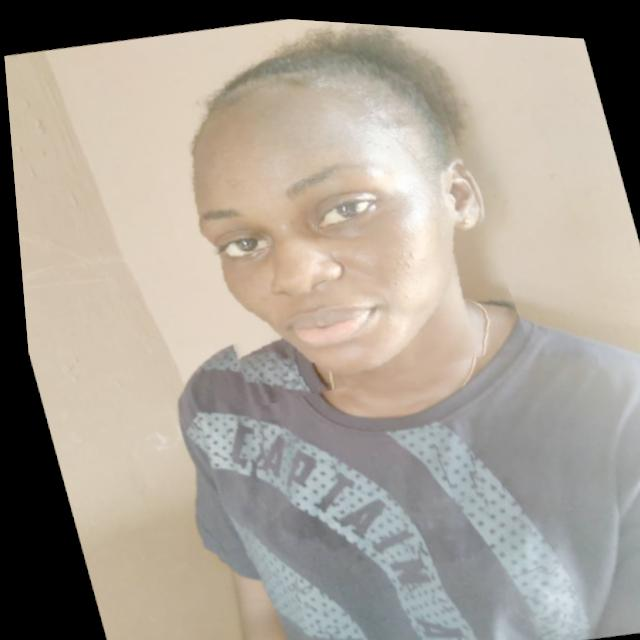sad: (139, 14, 526, 416)
